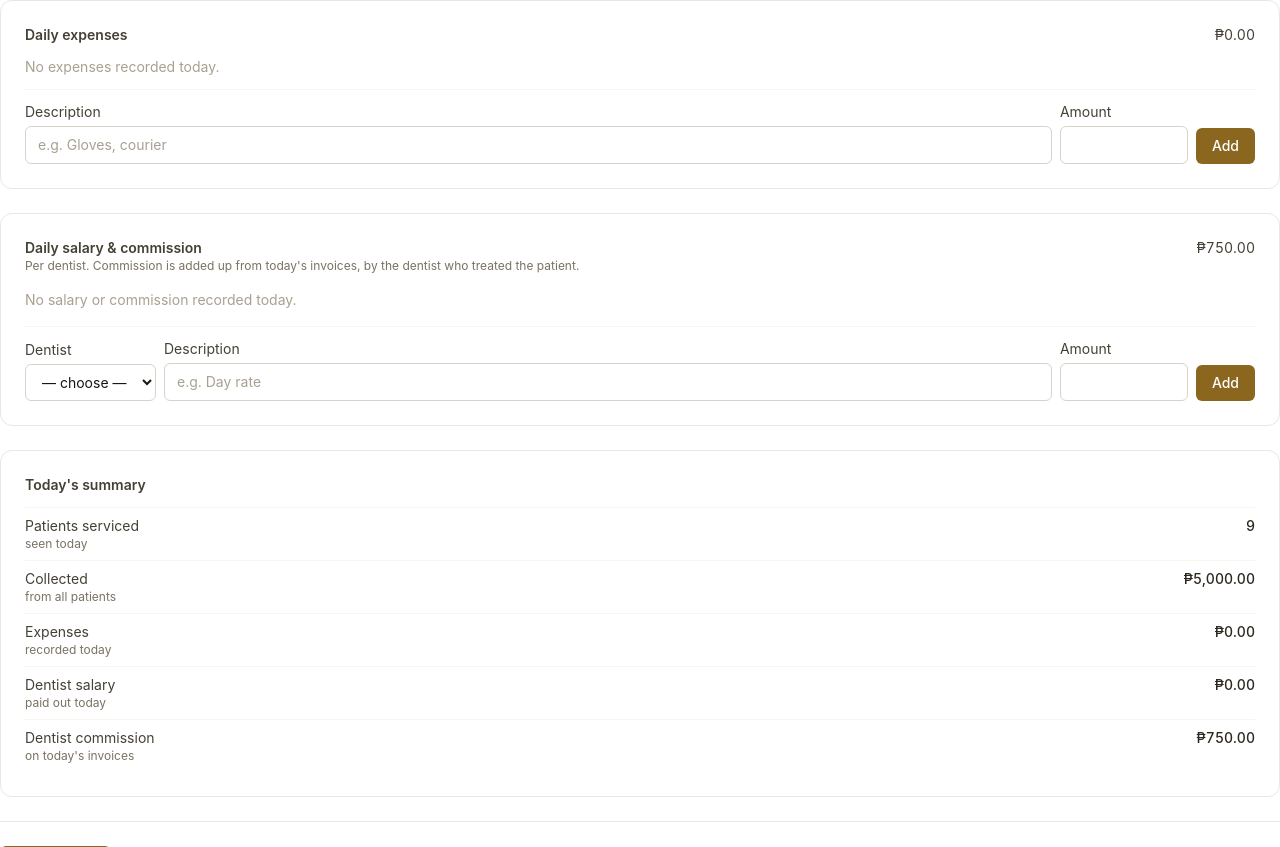
Test: DailyClosePanel › daily expenses › refuses an expense of nothing
This screenshot has width=1280, height=847.
In the field labelled "Description" below "No expenses recorded today.": (538, 145) [25,126,1052,164], type "Gloves"
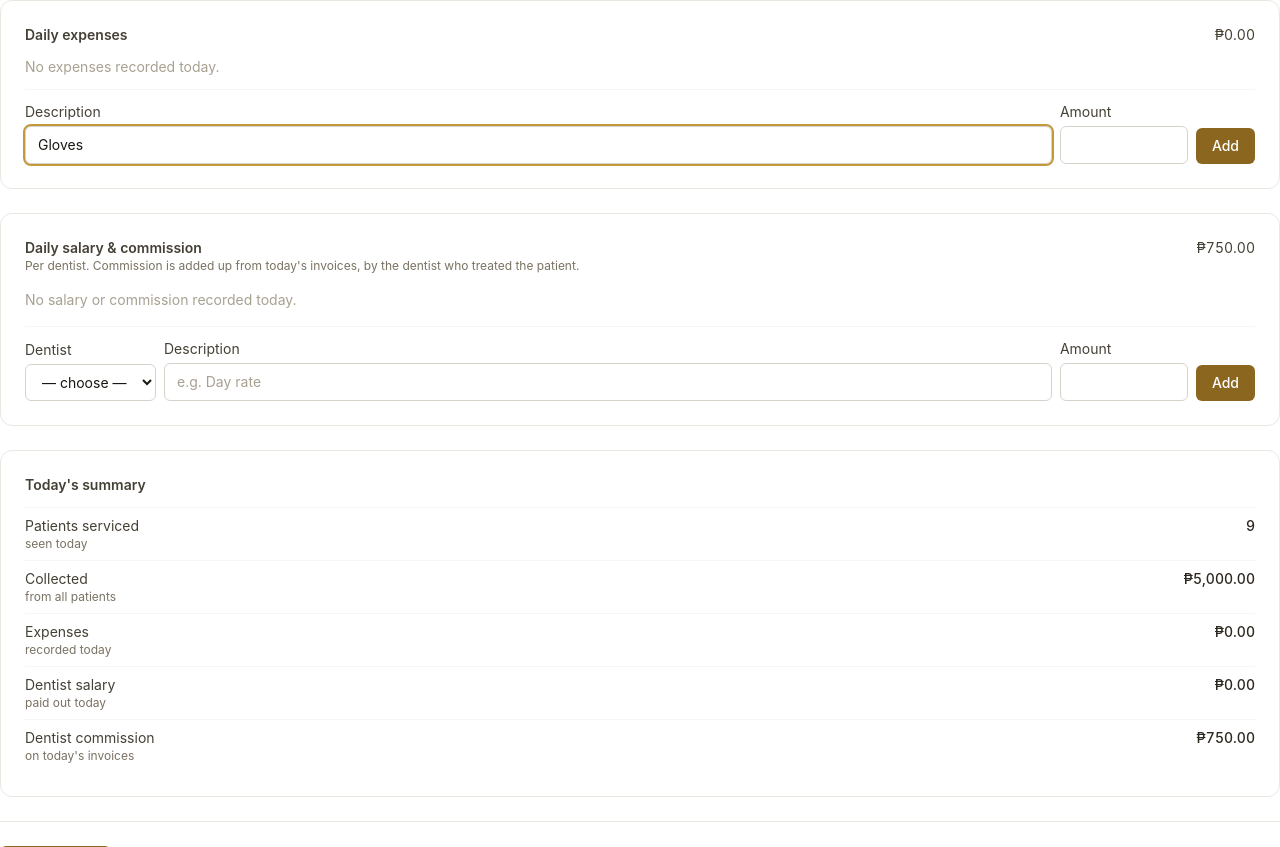
In the 1st number field labelled "Amount": (1124, 145) [1060,126,1188,164], type "0"
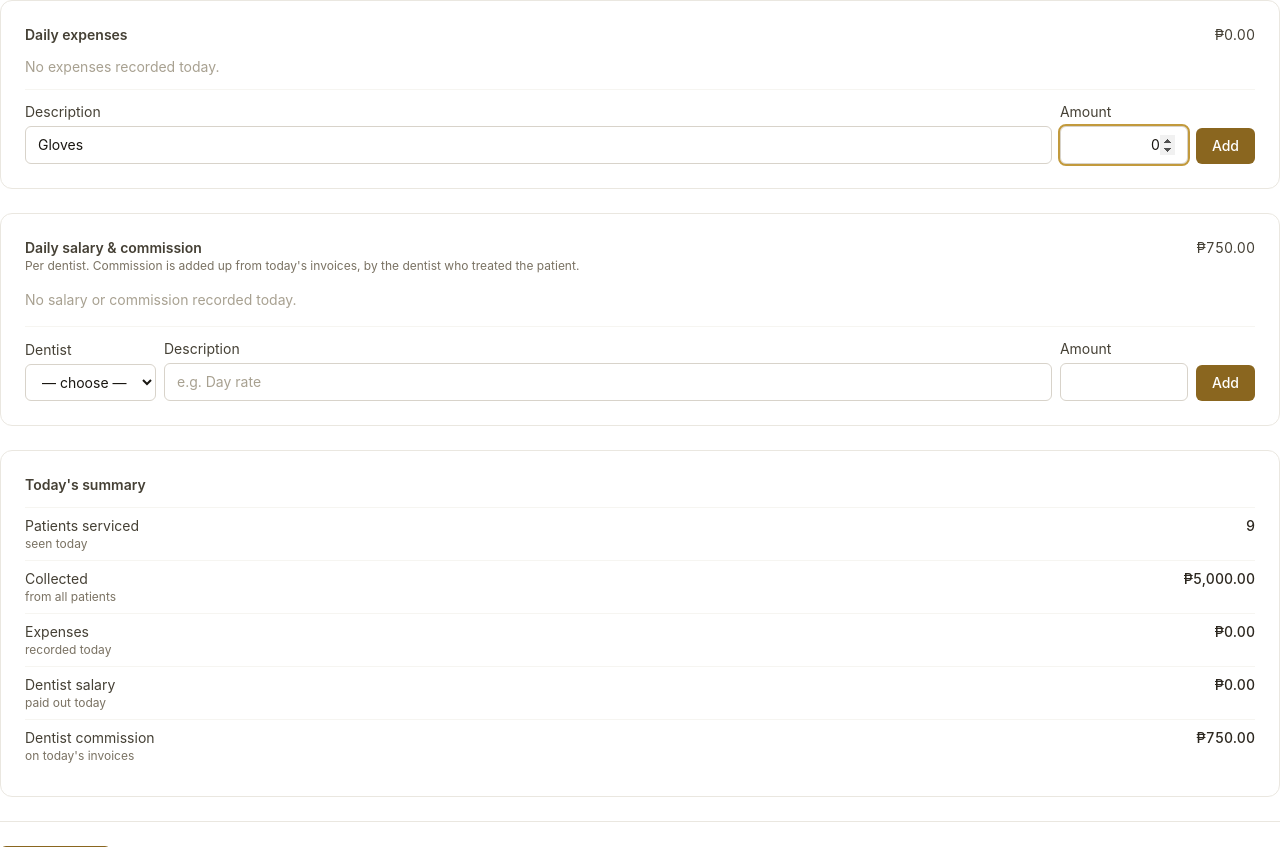
Click the 1st button "Add": (1225, 146) [1196,128,1255,164]
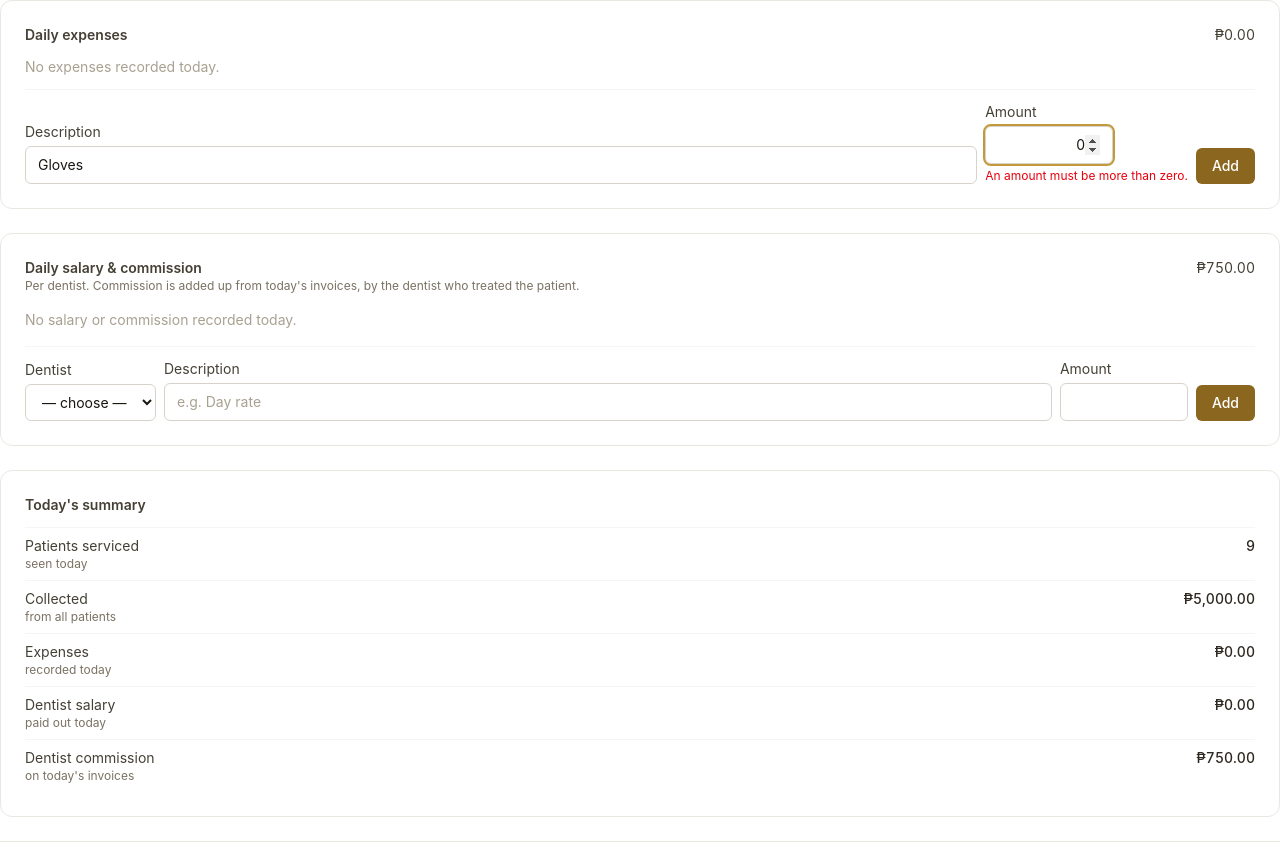
expect the text "An amount must be more than zero." is shown: met, box [985,168,1188,184]
